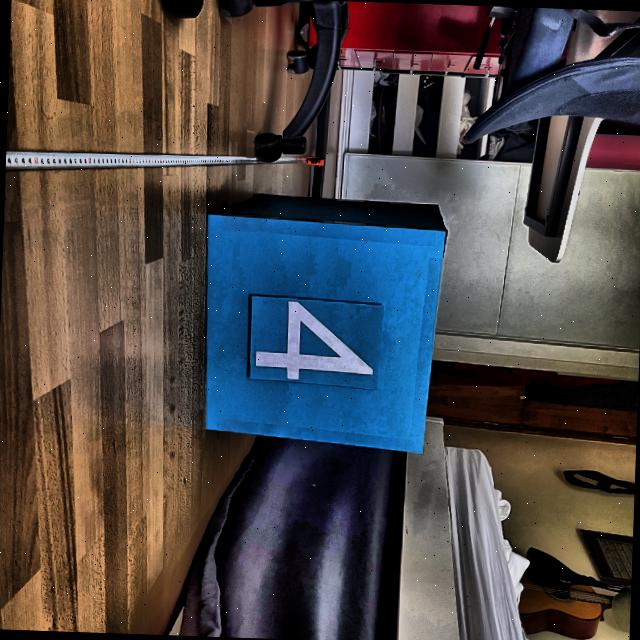blue box: (196, 186, 440, 459)
four: (250, 297, 378, 387)
